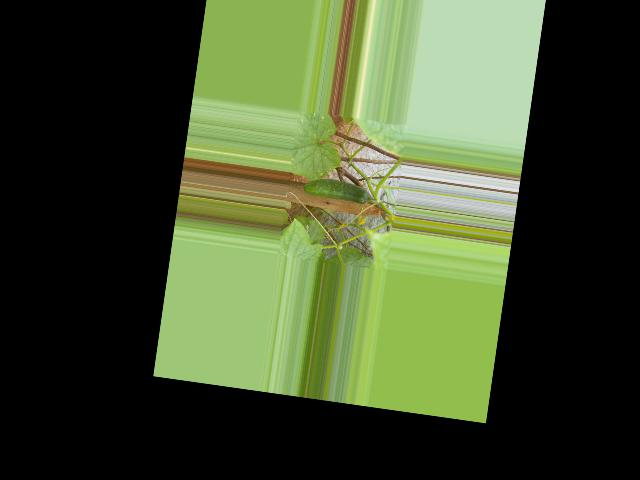cucumber: (302, 175, 370, 205)
